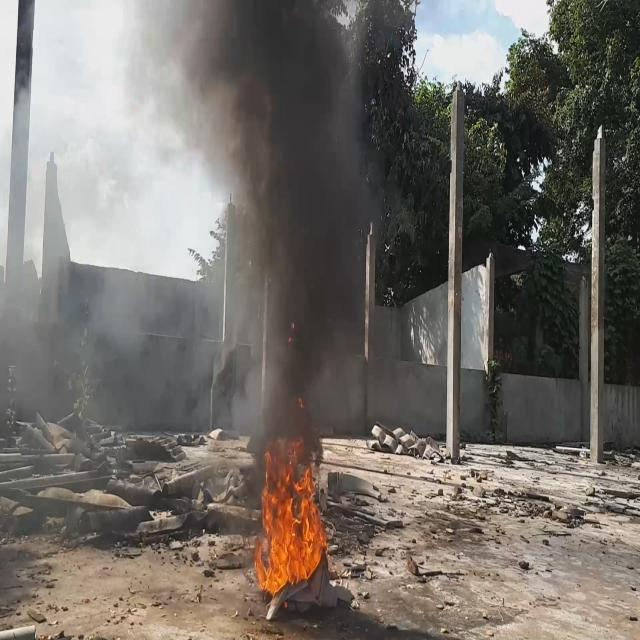Fire: (250, 434, 330, 604)
Smoke: (120, 0, 376, 465)
